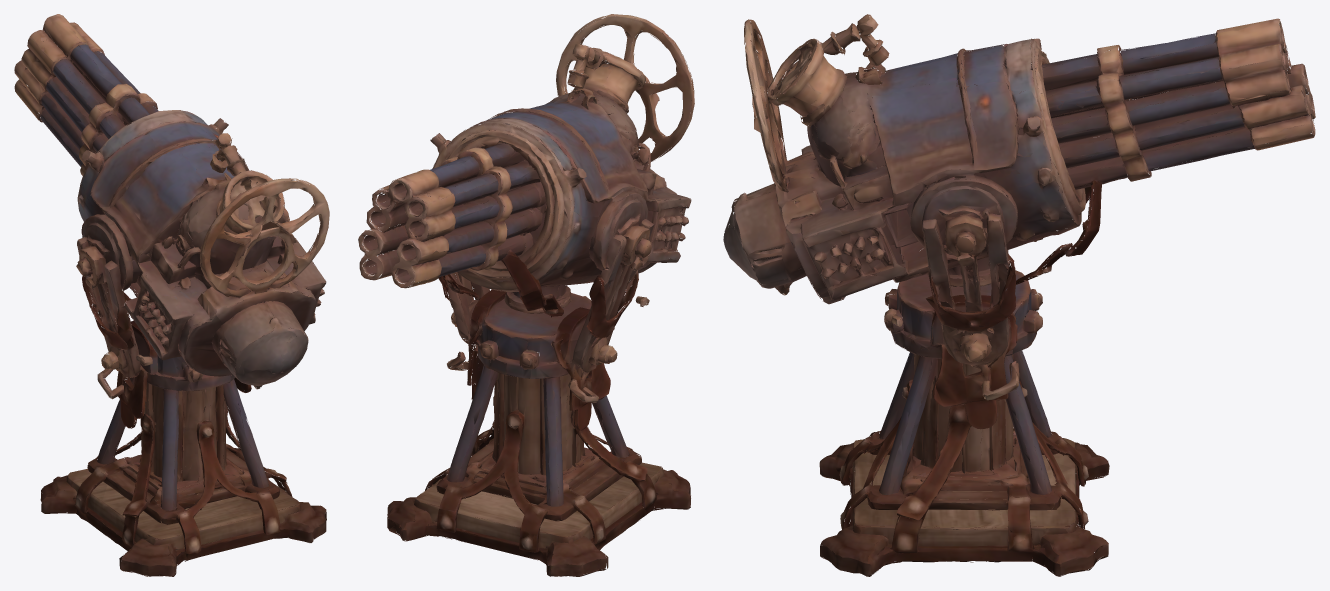
Rendered from sky_sweeper.glb.
3 views of the same model, side by side, from view 1: azimuth 30°, elevation 25°; view 2: azimuth 150°, elevation 25°; view 3: azimuth 270°, elevation 25° (orthographic). The views are drawn at different scales.
Parts seen in each view (by area): view 1: gun, base; view 2: gun, base; view 3: gun, base.
Boxes of the visible parts, <box> form: gun: <box>14,14,329,388</box>; base: <box>40,337,326,576</box>; gun: <box>358,14,694,351</box>; base: <box>387,298,690,576</box>; gun: <box>723,14,1315,333</box>; base: <box>781,289,1109,576</box>.
Size of the model in its own units: 1.05 by 2 by 2.14.
Materials: 1 (1 with a texture image).
